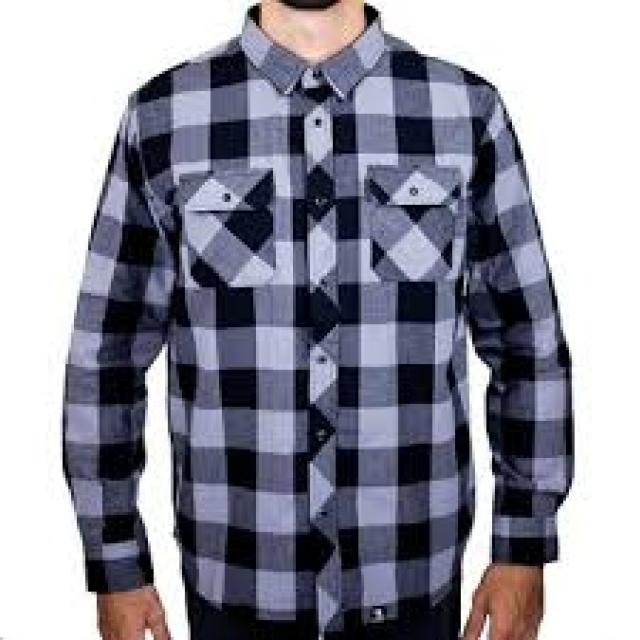plaid: (65, 24, 579, 580)
